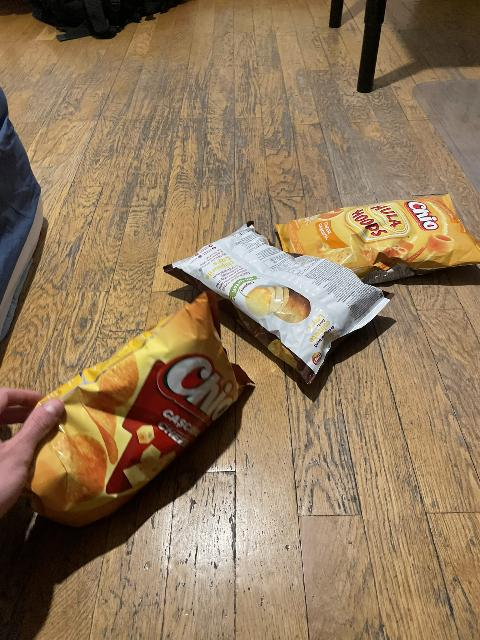Chio Cascaval 125g: (20, 299, 249, 516)
Chio Hula Hoops Cheese 70g: (282, 196, 470, 279)
Lays Beef Grilled Ribs 125g: (170, 217, 384, 370)
